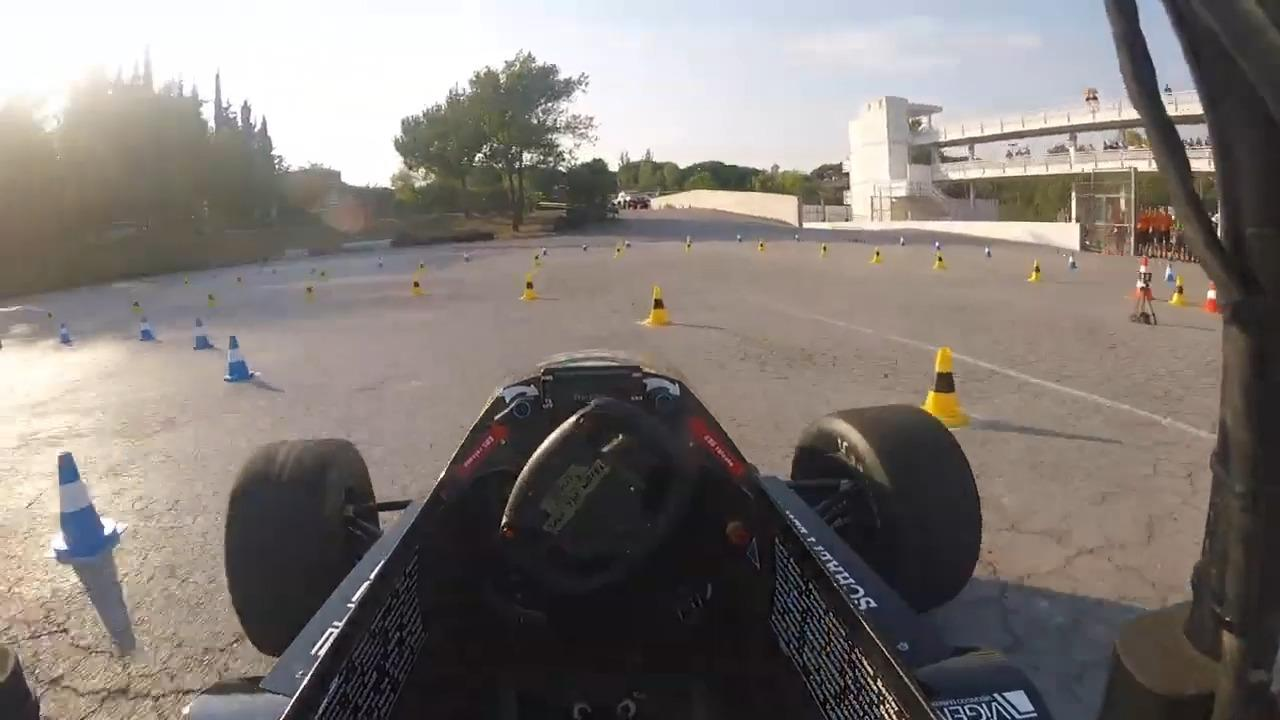blue_cone: (38, 442, 127, 569), (222, 332, 262, 382), (184, 312, 223, 352), (128, 308, 161, 347), (52, 318, 78, 355)
yellow_cone: (921, 332, 974, 418), (623, 283, 684, 334), (509, 263, 544, 308), (403, 271, 427, 300)
